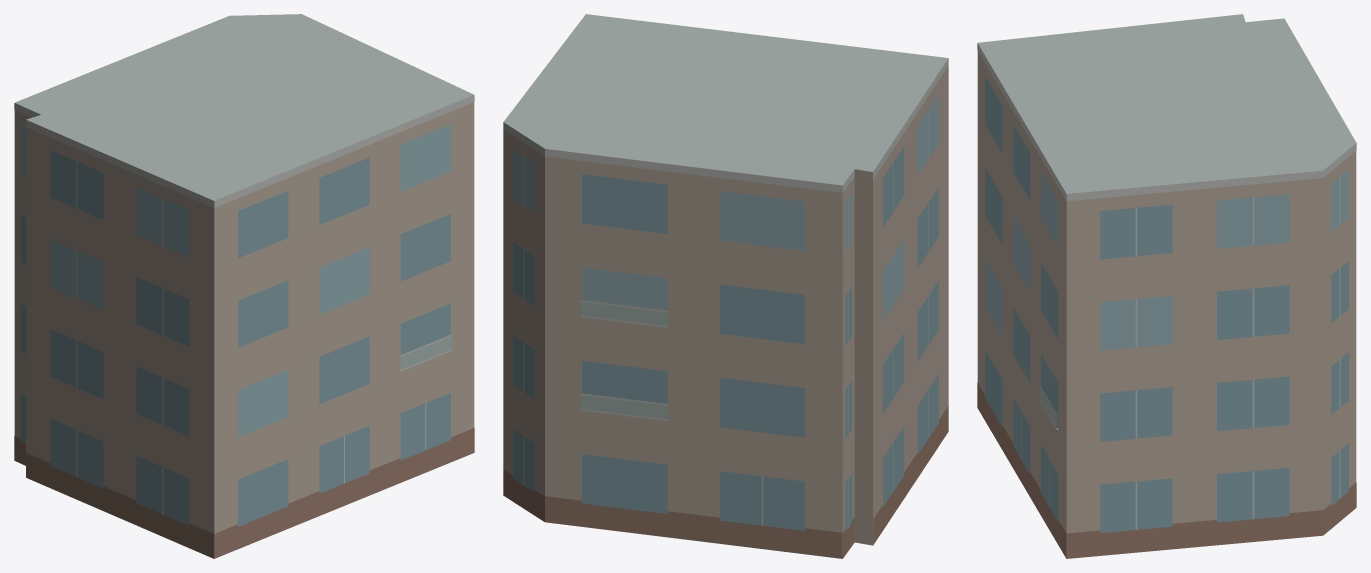
The model's file is survey-upis-32818935.glb.
3 renders of one model, left to right at view 1: azimuth 30°, elevation 25°; view 2: azimuth 150°, elevation 25°; view 3: azimuth 270°, elevation 25°, orthographic. The views are drawn at different scales.
Visible parts, largest first — view 1: survey-upis-32818935.tmp; view 2: survey-upis-32818935.tmp; view 3: survey-upis-32818935.tmp.
Boxes of the visible parts, x1,y1,x2,y2 form: survey-upis-32818935.tmp: (14, 14, 474, 558); survey-upis-32818935.tmp: (503, 14, 948, 558); survey-upis-32818935.tmp: (977, 14, 1356, 558).
Bounding box in the file's own units: 12.81 × 12.1 × 11.4.
